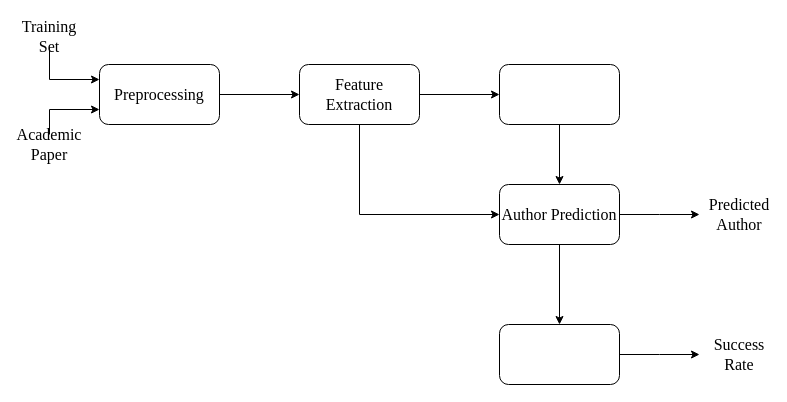
The diagram is 787 pixels wide and 402 high, and some of its shapes have lost their labels. Here are the shapes that lost their labels. From the top down, the centre of each, then its label:
At (x=559, y=94): "Training".
At (x=559, y=354): "Success Statistics".
